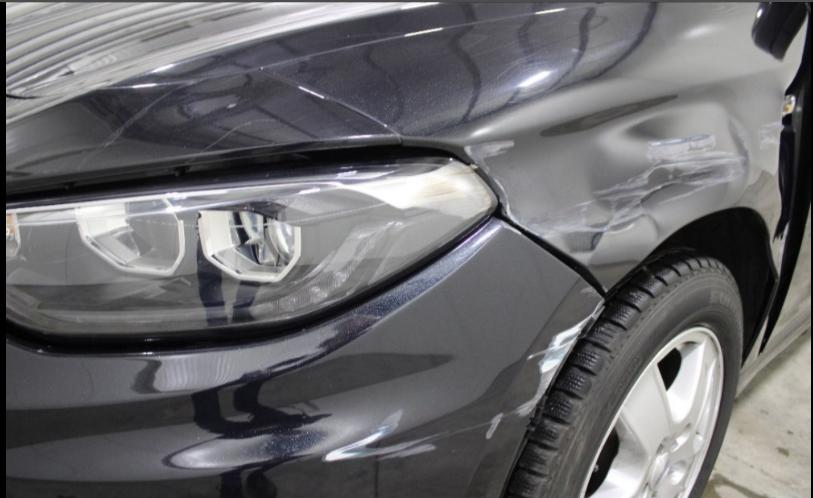Fender: (261, 0, 812, 367)
Front-bumper: (0, 216, 607, 497)
Front-door: (761, 199, 812, 358)
Front-wheel: (501, 238, 746, 497)
Headlight: (0, 159, 502, 354)
Hood: (1, 0, 595, 204)
Rocker-panel: (737, 310, 812, 397)
